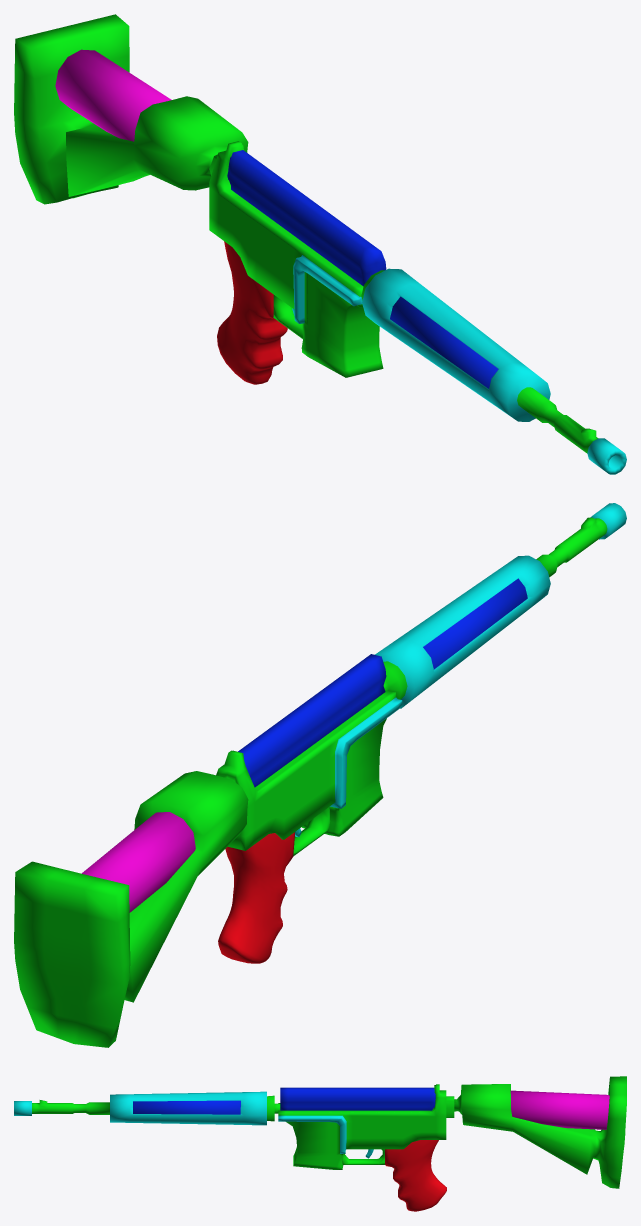
The model's file is lemonicedtea.fbx.
3 views of the same model, one above another, from view 1: azimuth 30°, elevation 25°; view 2: azimuth 150°, elevation 25°; view 3: azimuth 270°, elevation 25° (orthographic). The views are drawn at different scales.
Visible parts, largest first — view 1: Stock, Gun, Barrel, Tea Infuser, Handle, Trigger Area; view 2: Stock, Gun, Barrel, Handle, Tea Infuser, Trigger Area; view 3: Gun, Stock, Barrel, Tea Infuser, Handle, Trigger Area.
Boxes of the visible parts, x1,y1,x2,y2 form: Stock: (14,14,248,204); Gun: (209,141,386,377); Barrel: (361,268,626,474); Tea Infuser: (55,49,171,141); Handle: (217,241,287,384); Trigger Area: (273,295,302,338); Stock: (14,771,248,1047); Gun: (216,654,402,850); Barrel: (375,503,626,708); Handle: (218,832,294,963); Tea Infuser: (82,812,195,912); Trigger Area: (293,807,330,856); Gun: (278,1084,454,1169); Stock: (454,1076,626,1188); Barrel: (14,1091,280,1125); Tea Infuser: (510,1090,609,1129); Handle: (385,1140,446,1211); Trigger Area: (342,1149,384,1164).
Size of the model in its own units: 14.49 by 28.69 by 129.
